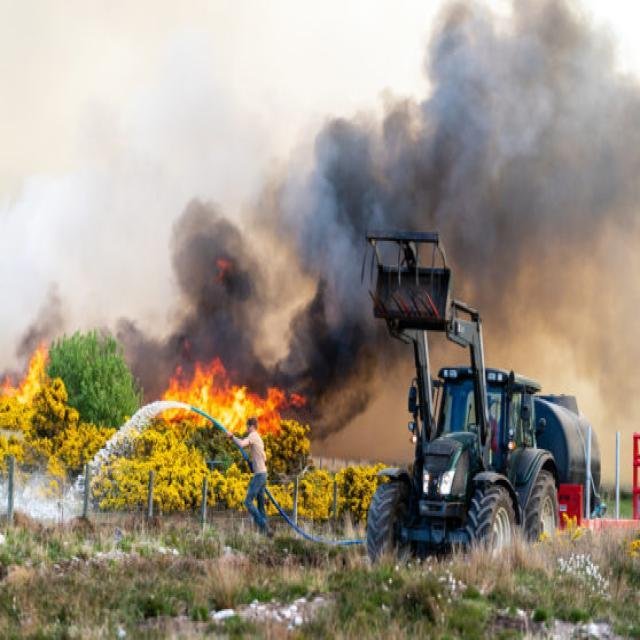Fire: (150, 362, 304, 440), (2, 352, 52, 400), (163, 361, 180, 392), (186, 361, 204, 386), (269, 372, 283, 400), (273, 380, 283, 406)
Smoke: (153, 28, 622, 404), (3, 43, 250, 341), (476, 23, 640, 323), (273, 115, 371, 318)
